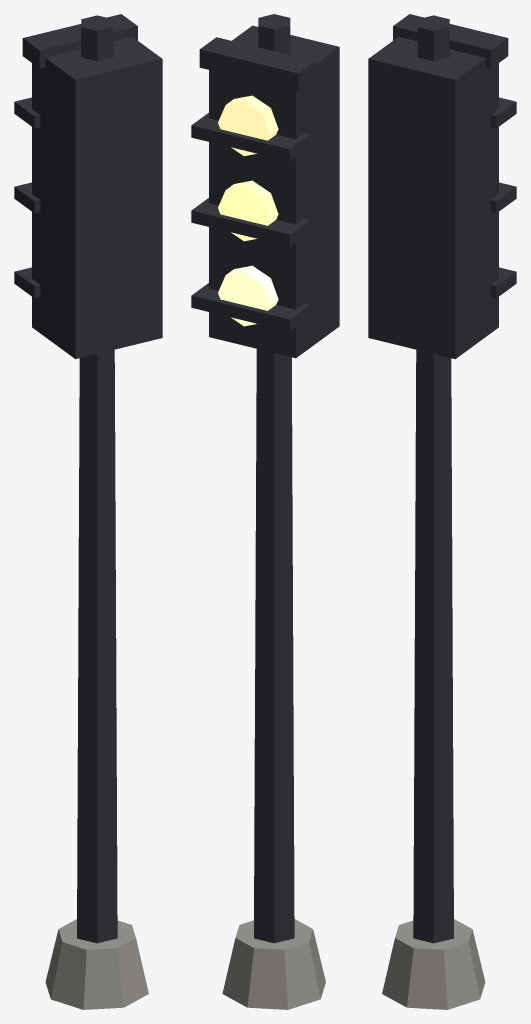
The model's file is prop_trafficlight_01.glb.
3 renders of one model, left to right at view 1: azimuth 30°, elevation 25°; view 2: azimuth 150°, elevation 25°; view 3: azimuth 330°, elevation 25°, orthographic.
Visible parts, largest first — view 1: prop_trafficlight_01; view 2: prop_trafficlight_01, lamp_yellow, lamp_green, lamp_red; view 3: prop_trafficlight_01.
Boxes of the visible parts, x1,y1,x2,y2 form: prop_trafficlight_01: (14, 14, 162, 1009); prop_trafficlight_01: (191, 14, 339, 1009); lamp_yellow: (218, 180, 278, 241); lamp_green: (218, 265, 278, 326); lamp_red: (218, 95, 278, 156); prop_trafficlight_01: (368, 14, 516, 1009).
Size of the model in its own units: 0.3401 by 3.18 by 0.3599.
